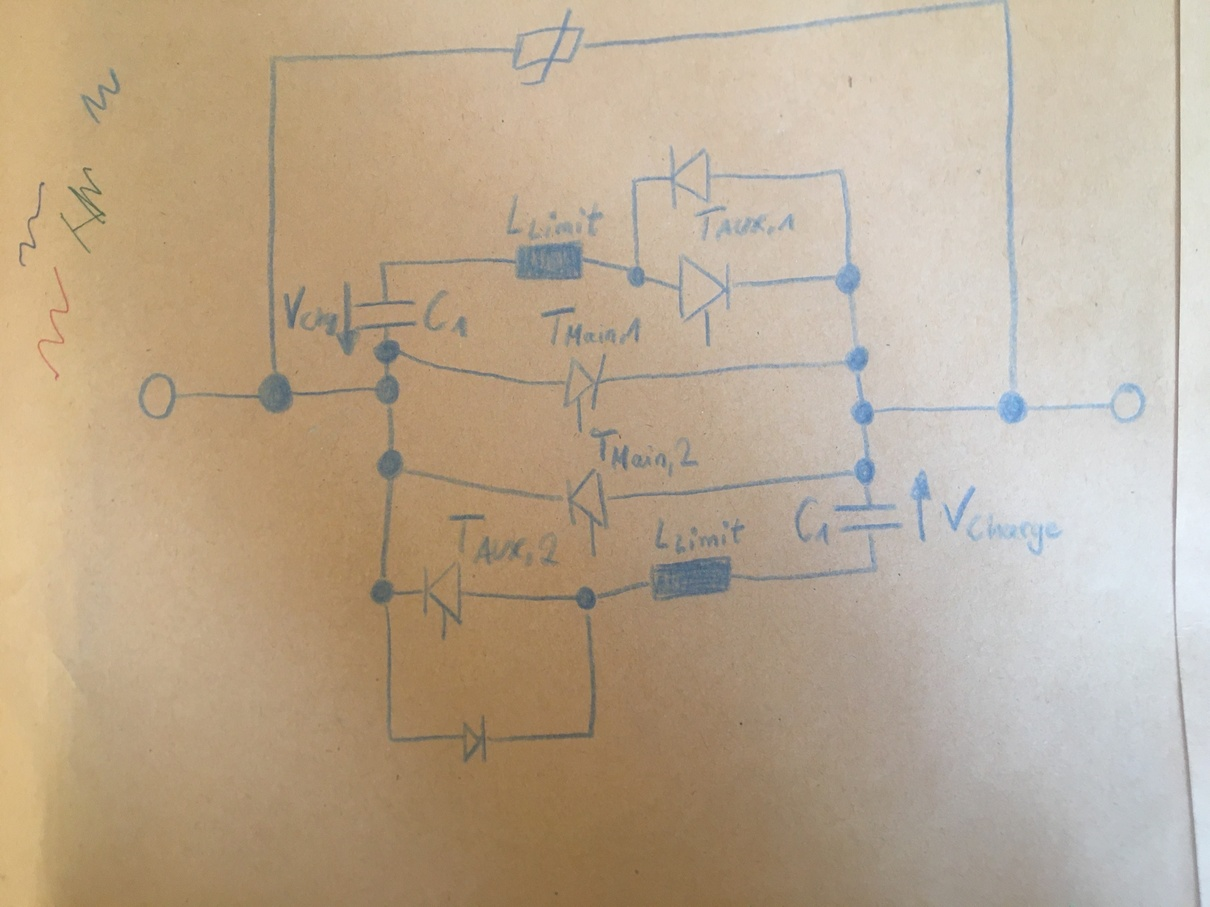capacitor.unpolarized: (832, 499, 907, 538), (351, 296, 420, 332)
diode: (666, 142, 714, 211), (460, 713, 490, 767)
inductor: (645, 554, 736, 604), (511, 238, 588, 284)
junction: (255, 370, 298, 414), (994, 388, 1031, 426), (374, 447, 408, 483), (832, 262, 863, 297), (372, 373, 402, 409), (368, 574, 398, 608), (841, 343, 871, 376), (573, 584, 602, 618), (851, 455, 879, 487), (848, 398, 878, 427), (372, 338, 402, 366), (625, 264, 648, 289), (832, 163, 851, 181), (582, 725, 598, 742), (866, 561, 882, 577), (266, 53, 282, 68), (383, 733, 400, 747), (376, 257, 390, 271), (992, 1, 1011, 9), (629, 174, 640, 185)
terminal: (135, 370, 180, 422), (1106, 381, 1149, 424)
text: (940, 484, 1063, 557), (446, 511, 562, 568), (587, 424, 701, 478), (503, 192, 606, 243), (538, 304, 644, 349), (691, 204, 798, 243), (651, 515, 746, 553), (282, 284, 339, 337), (421, 289, 469, 339), (792, 494, 832, 548)
thyristor: (674, 251, 733, 333), (564, 466, 614, 538), (420, 559, 468, 633), (559, 352, 610, 419)
varistor: (509, 6, 592, 89)
